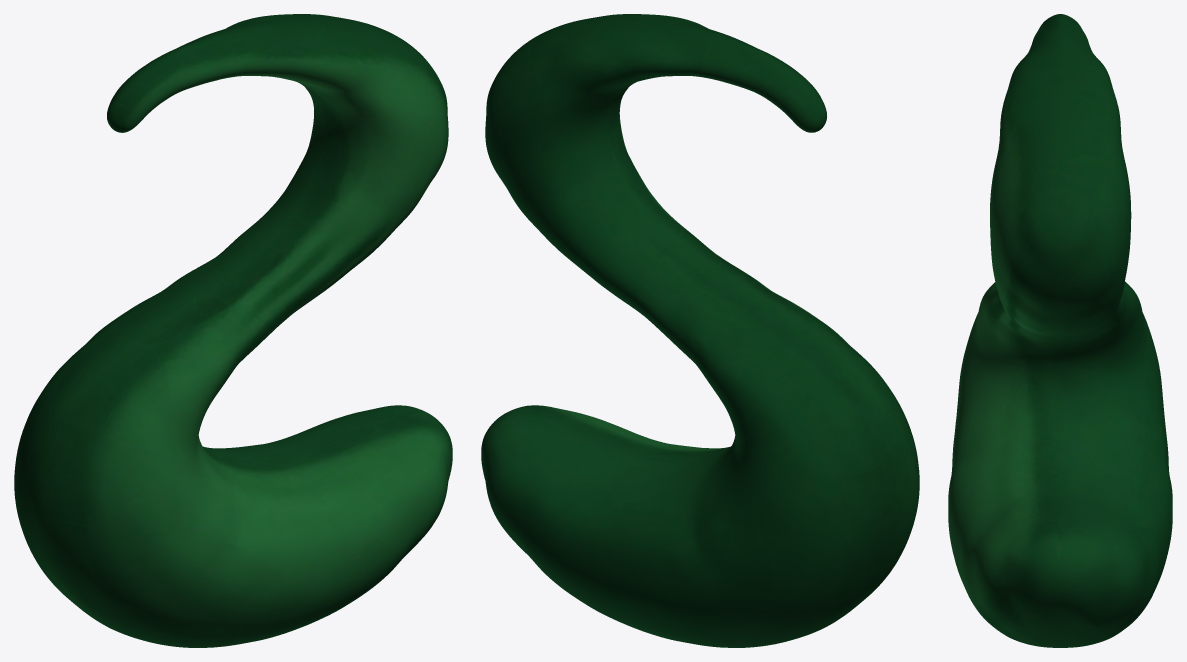
File: body.glb
3 views of the same model, side by side, from view 1: azimuth 30°, elevation 25°; view 2: azimuth 150°, elevation 25°; view 3: azimuth 270°, elevation 25° (orthographic). The views are drawn at different scales.
Bounding box in the file's own units: 1.37 × 1.9 × 0.6621.
Materials: 1 (1 with a texture image).
